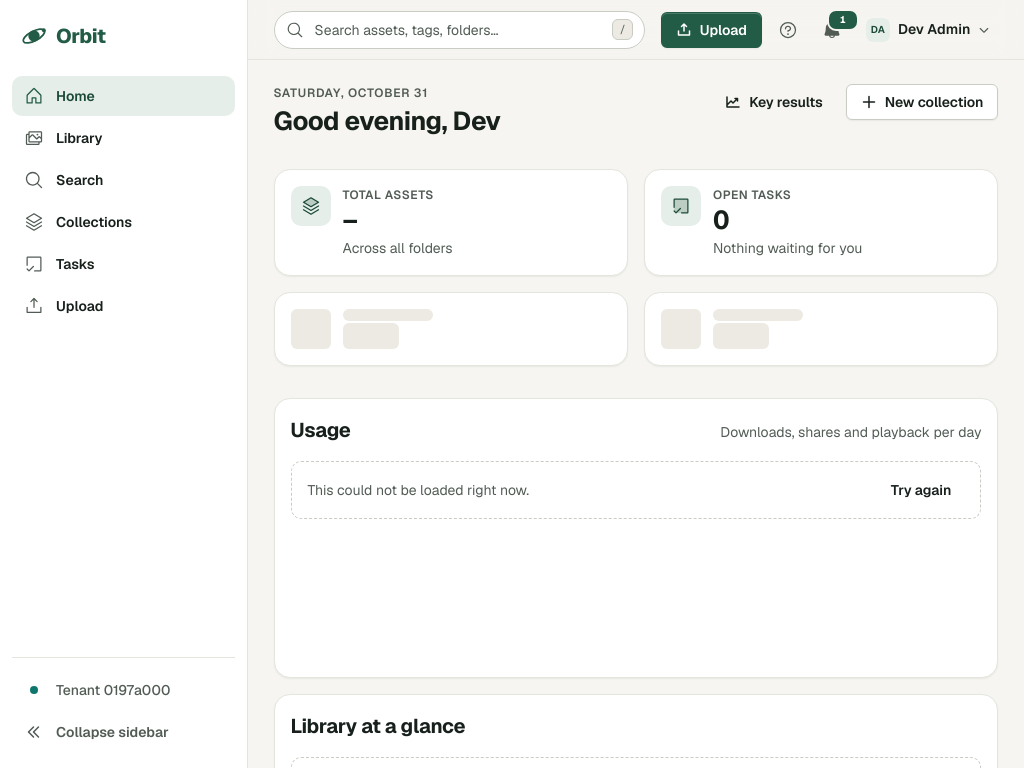
Test: notification bell - panel › opens a panel with the latest items, links, unread marking and the footer links
The image size is (1024, 768).
Click the button named "Notifications, 1 unread" at point(832, 30), box [814,12,850,48]
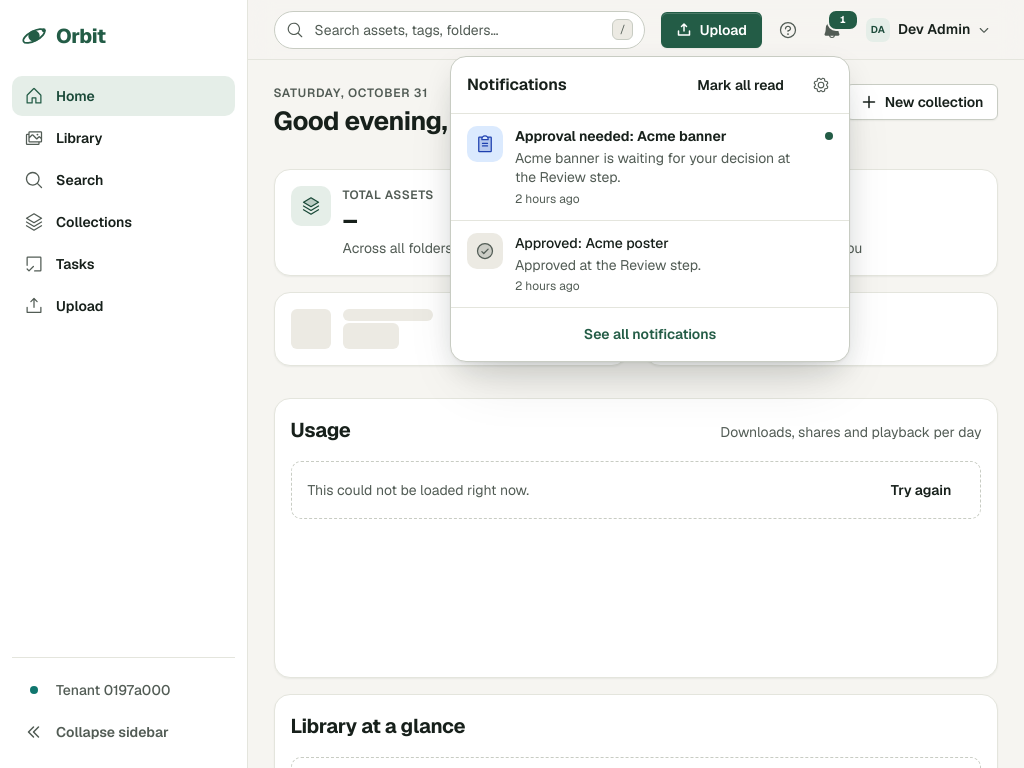
Expected: the heading "Notifications" is shown, [467,74,567,94]
Expected: the text "Approval needed: Acme banner" is shown, [514,126,726,144]
Expected: the text "Acme banner is waiting for your decision at the Review step." is shown, [515,148,813,188]
